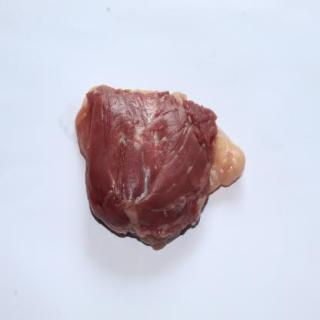Daging Sapi: (76, 86, 246, 251)
